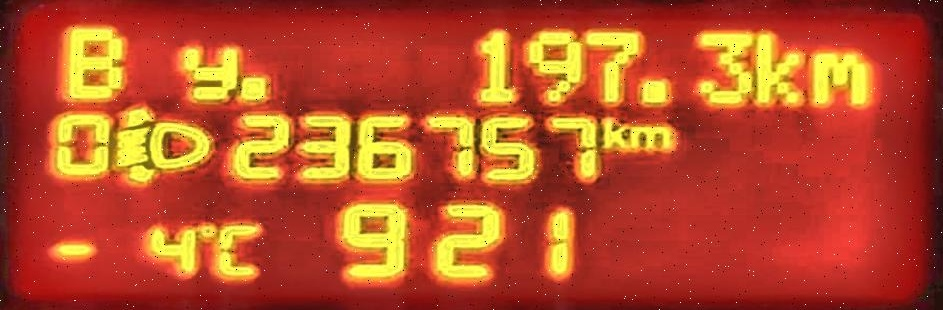-: (637, 78, 672, 105), (238, 74, 270, 102)
0: (51, 111, 110, 176)
1: (474, 29, 515, 104), (547, 205, 572, 282)
2: (428, 202, 505, 280), (228, 111, 290, 181)
3: (693, 30, 755, 107), (294, 113, 350, 182)
4: (140, 223, 197, 280)
5: (477, 114, 536, 181)
6: (353, 112, 415, 180)
7: (582, 28, 644, 107), (544, 111, 601, 182), (421, 113, 475, 178)
9: (333, 201, 408, 280), (523, 29, 584, 106)
X: (61, 24, 126, 102), (753, 31, 807, 108), (809, 49, 872, 106), (178, 43, 239, 101), (213, 222, 263, 277), (628, 125, 676, 150), (599, 116, 628, 150)
